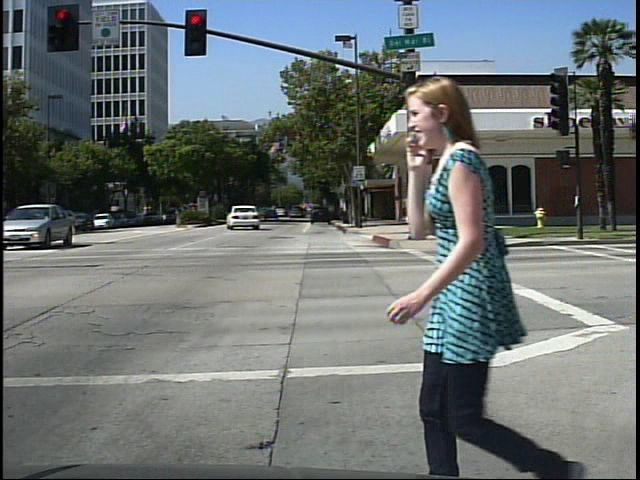person: (377, 72, 589, 480)
